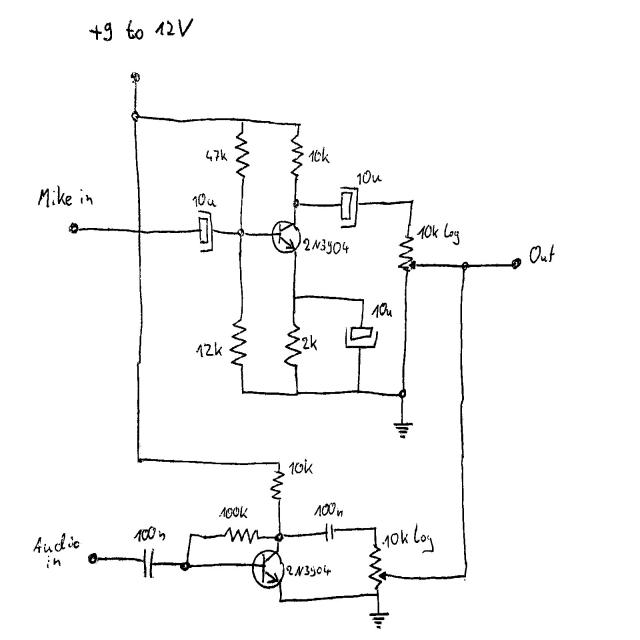capacitor: (343, 325, 380, 352), (338, 185, 360, 230), (196, 208, 214, 254), (138, 547, 158, 579), (323, 521, 337, 543)
crossover: (136, 227, 143, 236)
ground: (369, 610, 390, 629), (392, 421, 413, 439)
junction: (234, 225, 247, 240), (130, 108, 142, 124), (179, 560, 192, 573), (272, 529, 284, 543), (396, 386, 407, 400), (290, 196, 301, 209), (460, 569, 470, 582), (460, 260, 470, 272), (292, 388, 302, 399), (294, 119, 304, 129), (354, 386, 362, 397), (408, 197, 416, 207), (290, 293, 298, 302), (238, 116, 246, 125), (359, 296, 366, 305), (277, 596, 284, 605), (135, 455, 142, 464), (187, 531, 194, 539), (276, 458, 283, 466), (240, 388, 246, 396), (372, 525, 378, 533), (374, 591, 380, 599)
resistor: (228, 317, 249, 371), (282, 321, 303, 371), (397, 233, 419, 276), (367, 546, 388, 590), (233, 130, 251, 181), (222, 525, 260, 543), (289, 136, 304, 179), (270, 470, 285, 502)
terminal: (508, 257, 522, 271), (128, 70, 141, 85), (87, 551, 100, 566), (68, 221, 80, 235)
text: (88, 19, 198, 42), (31, 531, 82, 570), (382, 521, 436, 555), (37, 185, 96, 209), (416, 222, 461, 245), (301, 235, 349, 256), (286, 562, 330, 579), (528, 243, 556, 265), (312, 502, 345, 519), (195, 340, 224, 359), (133, 526, 165, 543), (219, 504, 250, 521), (354, 169, 383, 185), (287, 459, 315, 475), (308, 146, 331, 165), (370, 301, 393, 319), (191, 194, 217, 209), (204, 148, 228, 163), (301, 333, 319, 352)
transistor: (251, 548, 284, 589), (270, 218, 303, 254)
